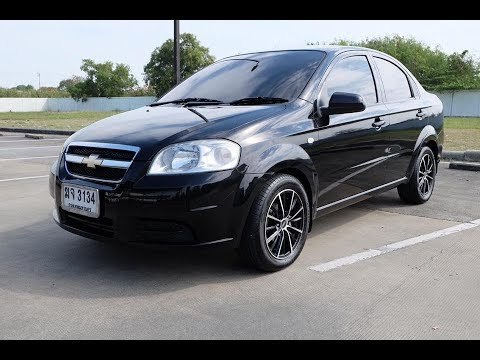sedan: (48, 44, 445, 272)
